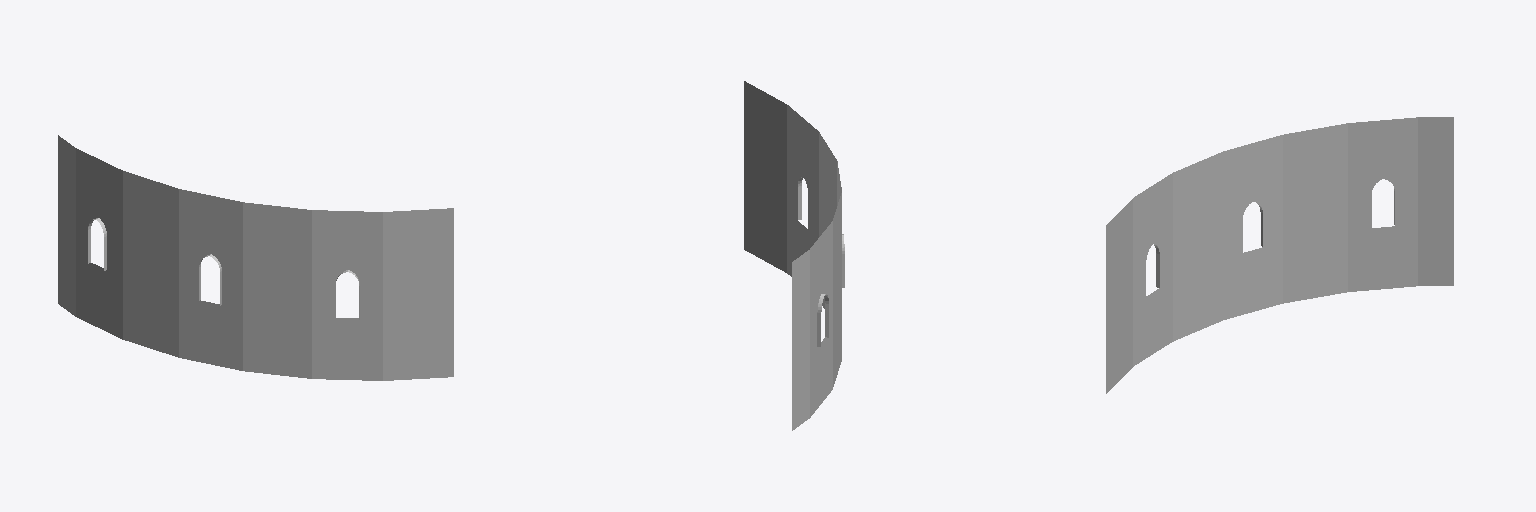
Rendered from wall01a_arena.obj.
3 renders of one model, left to right at view 1: azimuth 30°, elevation 25°; view 2: azimuth 150°, elevation 25°; view 3: azimuth 270°, elevation 25°, orthographic.
Visible parts, largest first — view 1: wall01a_arena; view 2: wall01a_arena; view 3: wall01a_arena.
Boxes of the visible parts, box(x1,y1,x2,y2) form: wall01a_arena: box(58, 135, 453, 380); wall01a_arena: box(744, 81, 844, 430); wall01a_arena: box(1106, 117, 1453, 393).
Size of the model in its own units: 9.88 by 7.19 by 13.42.